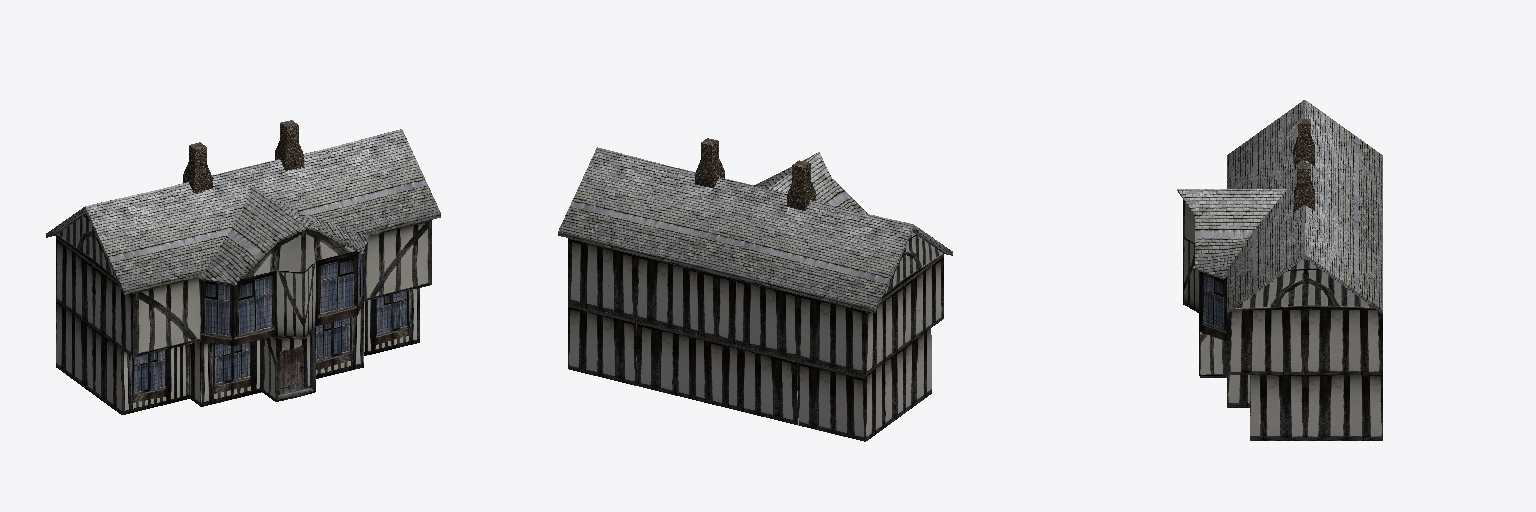
3 views of the same model, side by side, from view 1: azimuth 30°, elevation 25°; view 2: azimuth 150°, elevation 25°; view 3: azimuth 270°, elevation 25° (orthographic).
Visible parts, largest first — view 1: Form43, Form8; view 2: Form43, Form8; view 3: Form43, Form8.
Part boxes in pixels (x1,y1,x2,y2): Form43: (46, 129, 440, 414); Form8: (183, 120, 303, 192); Form43: (558, 147, 952, 441); Form8: (695, 138, 815, 210); Form43: (1177, 100, 1382, 440); Form8: (1294, 119, 1314, 211).
Bounding box in the file's own units: 613 × 414 × 344.
Materials: 1 (1 with a texture image).